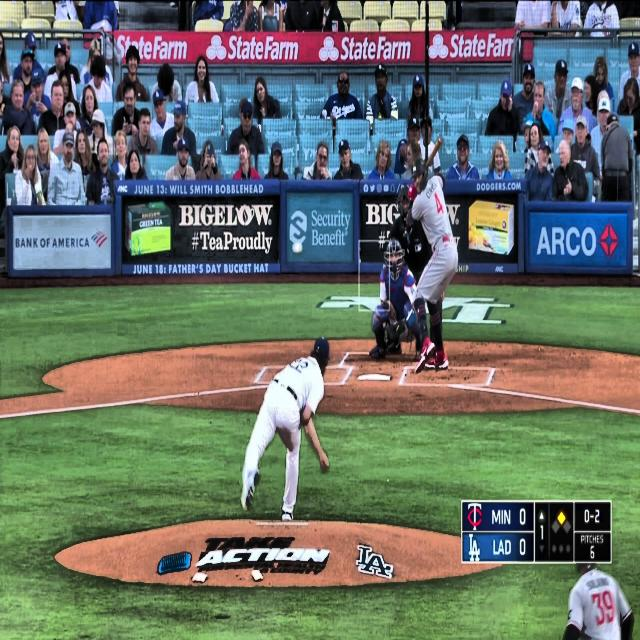baseball: (292, 241, 304, 256)
